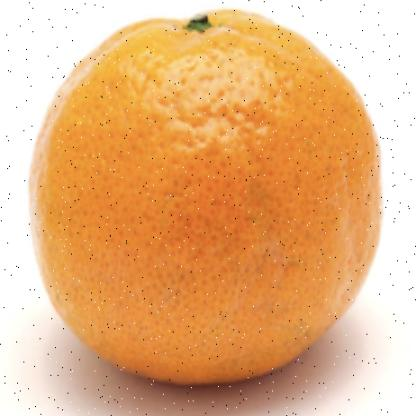fresh: (33, 8, 383, 390)
